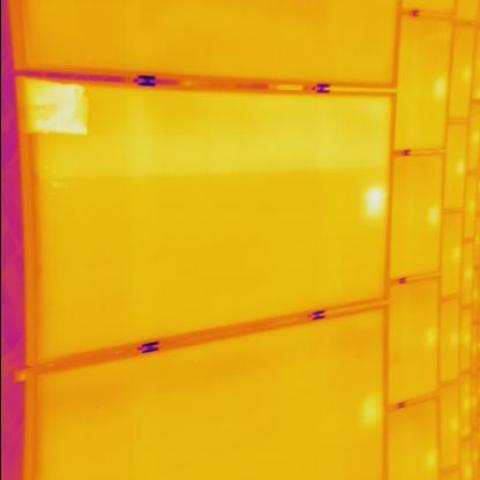fault: (20, 78, 83, 130), (366, 182, 386, 215)
